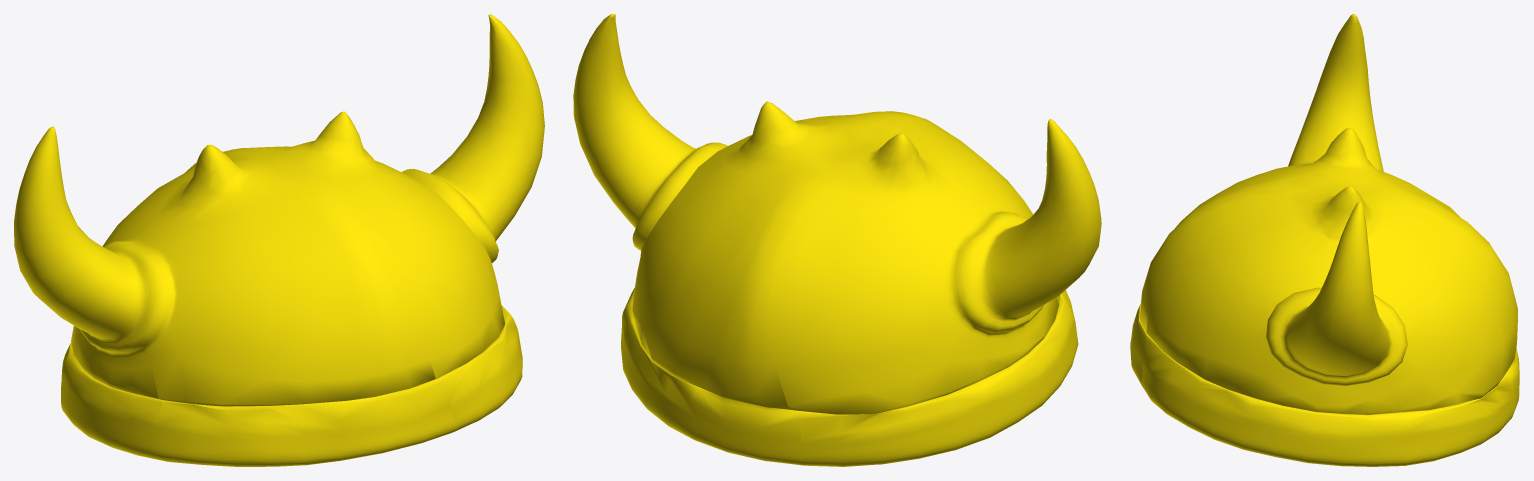
Rendered from Viking-Helmet-Gold.glb.
3 views of the same model, side by side, from view 1: azimuth 30°, elevation 25°; view 2: azimuth 150°, elevation 25°; view 3: azimuth 270°, elevation 25° (orthographic). The views are drawn at different scales.
Visible parts, largest first — view 1: Viking-Helmet-Gold; view 2: Viking-Helmet-Gold; view 3: Viking-Helmet-Gold.
Boxes of the visible parts, left/top/right/bottom form: Viking-Helmet-Gold: left=14, top=14, right=544, bottom=466; Viking-Helmet-Gold: left=573, top=14, right=1101, bottom=466; Viking-Helmet-Gold: left=1130, top=14, right=1519, bottom=466.
Size of the model in its own units: 0.5905 by 0.3584 by 0.4313.
Materials: 1 (1 with a texture image).
